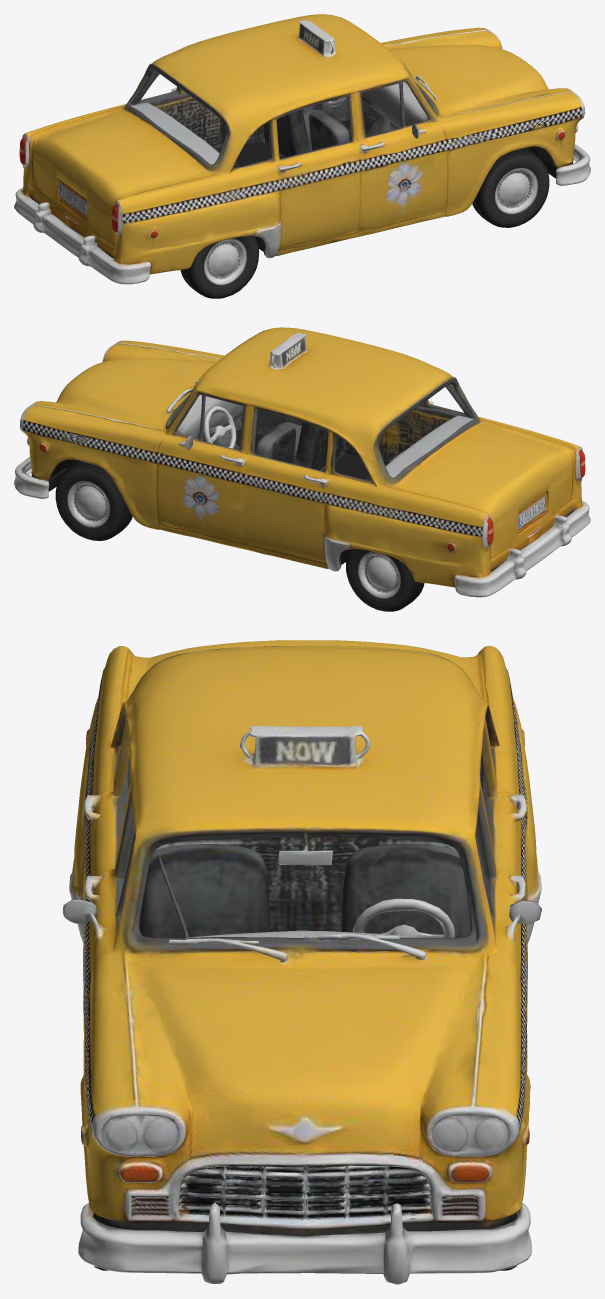
The model's file is checker.glb.
3 renders of one model, top to bottom at view 1: azimuth 30°, elevation 25°; view 2: azimuth 150°, elevation 25°; view 3: azimuth 270°, elevation 25°, orthographic. The views are drawn at different scales.
Parts seen in each view (by area): view 1: tripo_node_a5359d35-3828-4b4f-bea5-e029b16950e6; view 2: tripo_node_a5359d35-3828-4b4f-bea5-e029b16950e6; view 3: tripo_node_a5359d35-3828-4b4f-bea5-e029b16950e6.
Boxes of the visible parts, box(x1,y1,x2,y2) form: tripo_node_a5359d35-3828-4b4f-bea5-e029b16950e6: box(14, 14, 590, 298); tripo_node_a5359d35-3828-4b4f-bea5-e029b16950e6: box(14, 327, 590, 611); tripo_node_a5359d35-3828-4b4f-bea5-e029b16950e6: box(63, 640, 541, 1284).
Size of the model in its own units: 1 by 0.3785 by 0.4208.
1 material, 1 textured.
